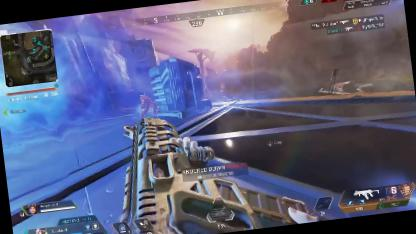Target: (135, 93, 157, 116)
